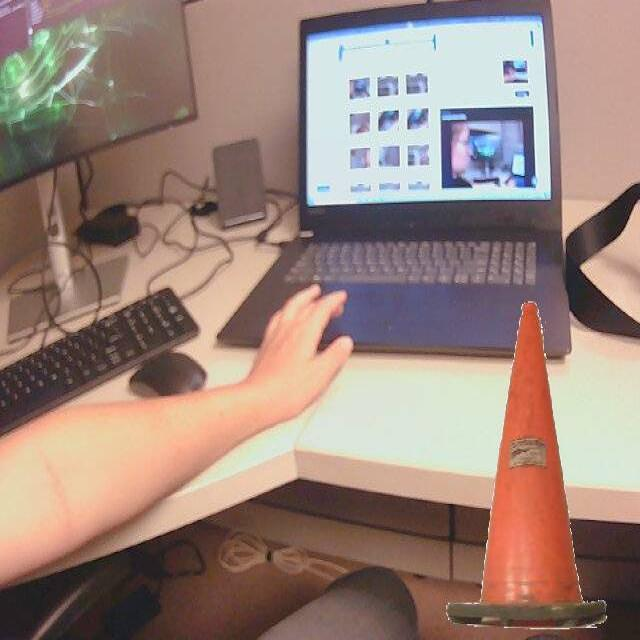traffic cone: (438, 293, 616, 640)
